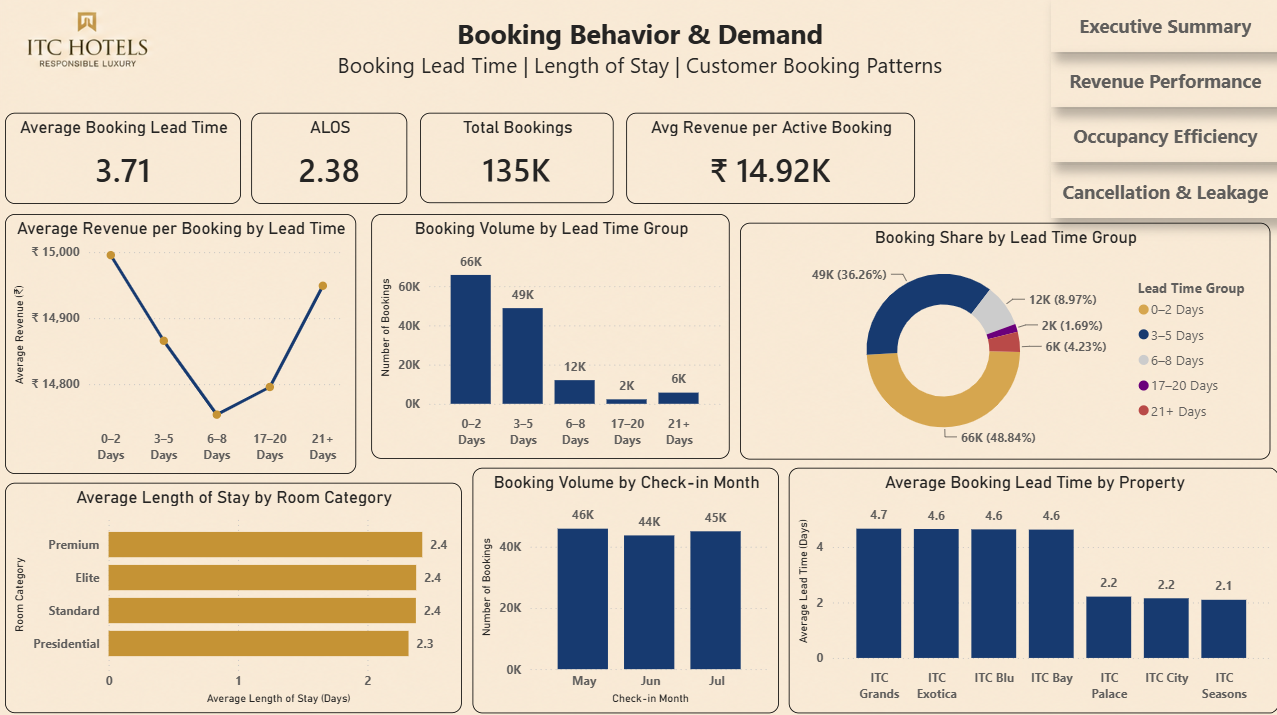

The dashboard page shown, as its layout file describes it:
{"tool":"powerbi","page":{"name":"Booking Behavior & Demand","canvas":[1280,720],"ordinal":3},"visuals":[{"type":"textbox","box":[208.8,11.2,862.5,78.8],"z":0},{"type":"cardVisual","title":"Average Booking Lead Time","fields":{"Data":["A measures.Average Lead Time"]},"box":[5,113.8,236.2,91.2],"z":1000},{"type":"cardVisual","title":"ALOS","fields":{"Data":["A measures.ALOS"]},"box":[251.5,114.1,156.2,91.2],"z":2000},{"type":"cardVisual","title":"Total Bookings","fields":{"Data":["A measures.Total Bookings"]},"box":[419.6,114.1,193.9,90.8],"z":3000},{"type":"cardVisual","title":"Avg Revenue per Active Booking","fields":{"Data":["A measures.Avg Revenue Per Booking"]},"box":[625.8,114.1,288.8,91.2],"z":4000},{"type":"lineChart","title":"Average Revenue per Booking by Lead Time","fields":{"Y":["A measures.Avg Revenue Per Booking"],"Category":["bookings.Lead Time Group"]},"box":[5,215,351.2,260],"z":5000},{"type":"clusteredBarChart","title":"Average Length of Stay by Room Category","fields":{"Category":["rooms.Room Class"],"Y":["A measures.ALOS"]},"box":[4.9,483.4,456.4,230.7],"z":6000},{"type":"clusteredColumnChart","title":"Booking Volume by Lead Time Group","fields":{"Category":["bookings.Lead Time Group"],"Y":["A measures.Total Bookings"]},"box":[371.2,215,358.8,245],"z":7000},{"type":"clusteredColumnChart","title":"Booking Volume by Check-in Month","fields":{"Y":["A measures.Total Bookings"],"Category":["Date Table.MonthName"]},"box":[472.4,468.7,306.8,245.4],"z":8000},{"type":"clusteredColumnChart","title":"Average Booking Lead Time by Property","fields":{"Category":["hotels.Property Name"],"Y":["A measures.Average Lead Time"]},"box":[789,468.7,490.8,245.4],"z":9000},{"type":"donutChart","title":"Booking Share by Lead Time Group","fields":{"Y":["A measures.Total Bookings"],"Category":["bookings.Lead Time Group"]},"box":[739.9,223.3,530.1,236.8],"z":10000},{"type":"actionButton","box":[1051.5,165.6,228.2,52.8],"z":11000},{"type":"actionButton","box":[1051.5,110.4,228.2,52.8],"z":12000},{"type":"actionButton","box":[1051.5,55.2,228.2,52.8],"z":13000},{"type":"actionButton","box":[1051.5,0,228.2,52.8],"z":14000}]}

Visuals, with their boxes in screenshot pixels (x1, y1, x2, y2), scaled from the page's 1280x720 canvas onto the 1277x715 screenshot:
textbox: x1=208, y1=11, x2=1069, y2=89
"Average Booking Lead Time" cardVisual: x1=5, y1=113, x2=241, y2=204
"ALOS" cardVisual: x1=251, y1=113, x2=407, y2=204
"Total Bookings" cardVisual: x1=419, y1=113, x2=612, y2=203
"Avg Revenue per Active Booking" cardVisual: x1=624, y1=113, x2=912, y2=204
"Average Revenue per Booking by Lead Time" lineChart: x1=5, y1=214, x2=355, y2=472
"Average Length of Stay by Room Category" clusteredBarChart: x1=5, y1=480, x2=460, y2=709
"Booking Volume by Lead Time Group" clusteredColumnChart: x1=370, y1=214, x2=728, y2=457
"Booking Volume by Check-in Month" clusteredColumnChart: x1=471, y1=465, x2=777, y2=709
"Average Booking Lead Time by Property" clusteredColumnChart: x1=787, y1=465, x2=1276, y2=709
"Booking Share by Lead Time Group" donutChart: x1=738, y1=222, x2=1267, y2=457
actionButton: x1=1049, y1=164, x2=1276, y2=217
actionButton: x1=1049, y1=110, x2=1276, y2=162
actionButton: x1=1049, y1=55, x2=1276, y2=107
actionButton: x1=1049, y1=0, x2=1276, y2=52
